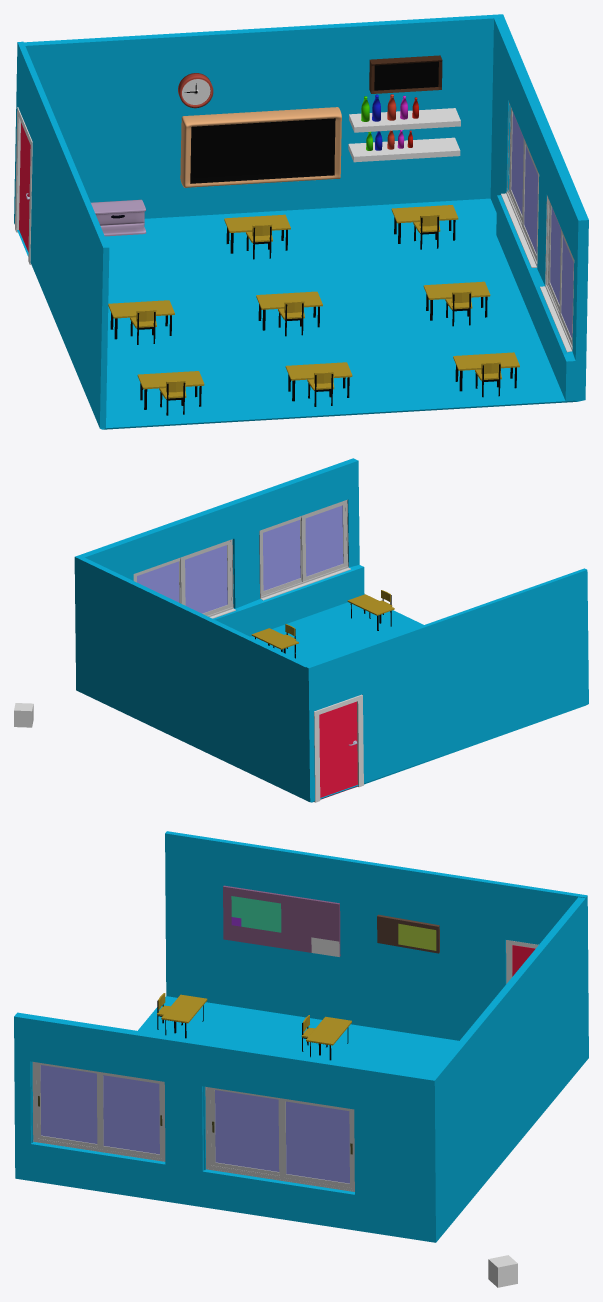
File: FinaleOriginale2.glb
3 renders of one model, top to bottom at view 1: azimuth 30°, elevation 25°; view 2: azimuth 150°, elevation 25°; view 3: azimuth 270°, elevation 25°, orthographic. The views are drawn at different scales.
Visible parts, largest first — view 1: Plane.001, Cube.001, Cube, Cube.002, Cube.004, Cube.003, Cube.007, Window.L.001, Window.L, Window.R.001, Door, DoorFrame (+4 smaller); view 2: Plane.001, Door, Window.L.001, Window.L, Window.R, Cube.001, DoorFrame, Window.R.001, WindowFrame, Cube.018; view 3: Plane.001, Cube.006, Window.R.001, Window.L.001, Window.R, Window.L, Cube.001, Cube.005, WindowFrame.001, WindowFrame, Cube.018.
Boxes of the visible parts, x1,y1,x2,y2 form: Plane.001: (14,14,588,429); Cube.001: (108,205,519,415); Cube: (180,107,341,187); Cube.002: (369,55,442,93); Cube.004: (348,137,460,162); Cube.003: (349,108,460,132); Cube.007: (91,199,146,236); Window.L.001: (522,138,538,261); Window.L: (559,230,573,345); Window.R.001: (509,108,523,221); Door: (19,123,30,252); DoorFrame: (15,107,32,264); Plane.001: (74,458,588,802); Door: (319,701,357,799); Window.L.001: (180,540,231,615); Window.L: (301,501,346,581); Window.R: (261,517,301,594); Cube.001: (251,590,394,658); DoorFrame: (314,694,363,802); Window.R.001: (134,559,180,603); WindowFrame: (259,499,348,598); Cube.018: (14,703,33,727); Plane.001: (14,831,588,1242); Cube.006: (223,885,340,956); Window.R.001: (279,1098,353,1188); Window.L.001: (210,1087,279,1175); Window.R: (97,1071,162,1158); Window.L: (36,1062,97,1147); Cube.001: (157,993,351,1060); Cube.005: (377,914,439,953); WindowFrame.001: (205,1086,354,1191); WindowFrame: (32,1062,165,1161); Cube.018: (488,1255,517,1287).
Bounding box in the file's own units: 55.86 × 19.22 × 51.46.
